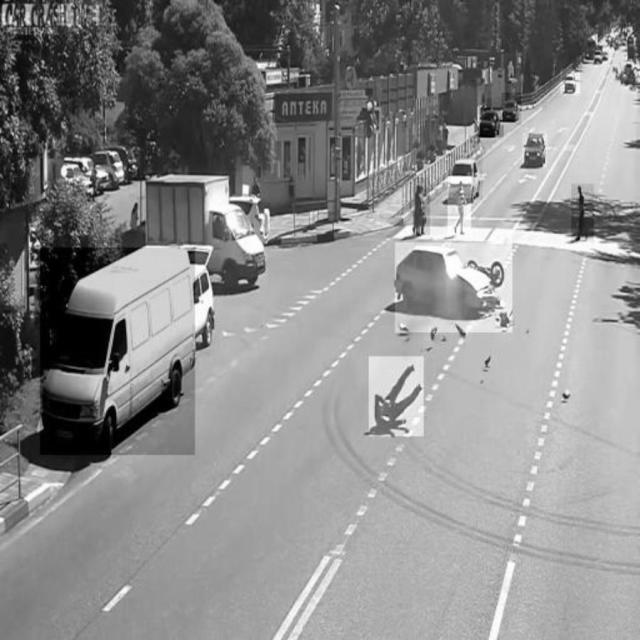accident: (395, 243, 513, 333)
person: (369, 356, 424, 436), (448, 177, 472, 238), (572, 184, 594, 241), (413, 179, 430, 236)
vehicle: (40, 248, 194, 455), (145, 172, 267, 288), (448, 156, 483, 201), (92, 147, 128, 189), (523, 132, 548, 168), (480, 108, 505, 138), (502, 93, 522, 125), (561, 69, 581, 94)
